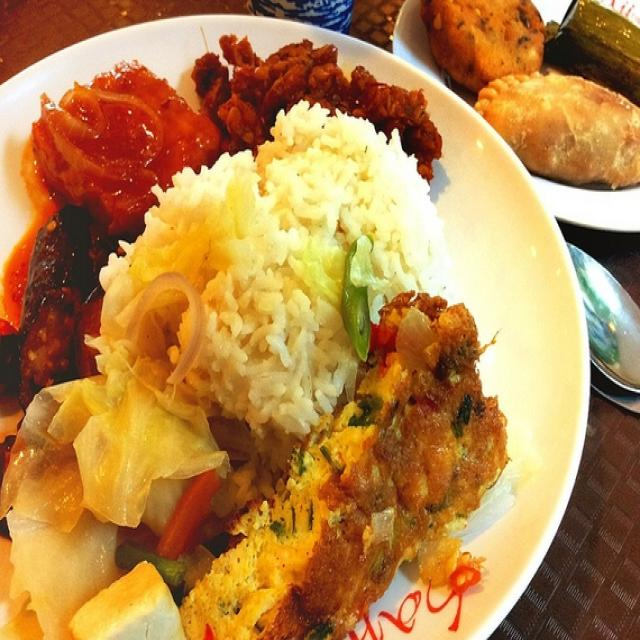米饭主食: (14, 17, 618, 624)
